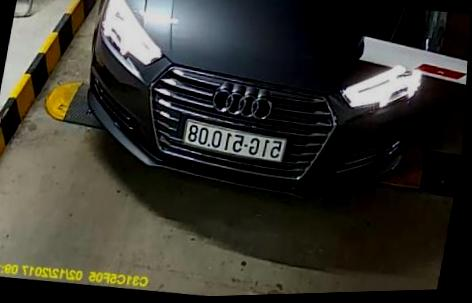License_Plate: (178, 117, 290, 174)
